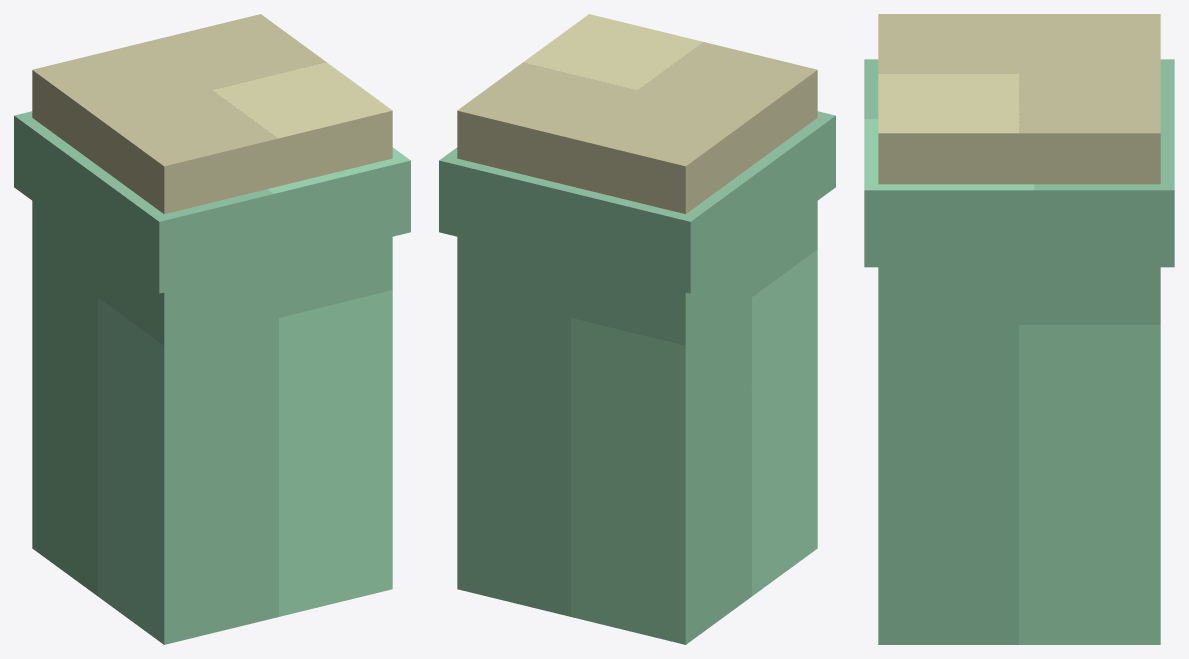
File: IAShopJar.gltf
3 renders of one model, left to right at view 1: azimuth 30°, elevation 25°; view 2: azimuth 150°, elevation 25°; view 3: azimuth 270°, elevation 25°, orthographic. The views are drawn at different scales.
Visible parts, largest first — view 1: 48c4b99a-9bad-b5d1-30bb-d50b972173fa, 4555647e-de2f-037a-ed20-42589653ef53, 9f0b062f-8b22-5e3b-2b2b-699a79e69215; view 2: 48c4b99a-9bad-b5d1-30bb-d50b972173fa, 4555647e-de2f-037a-ed20-42589653ef53, 9f0b062f-8b22-5e3b-2b2b-699a79e69215; view 3: 48c4b99a-9bad-b5d1-30bb-d50b972173fa, 4555647e-de2f-037a-ed20-42589653ef53, 9f0b062f-8b22-5e3b-2b2b-699a79e69215.
Boxes of the visible parts, x1,y1,x2,y2 form: 48c4b99a-9bad-b5d1-30bb-d50b972173fa: [32, 201, 392, 644]; 4555647e-de2f-037a-ed20-42589653ef53: [32, 14, 392, 214]; 9f0b062f-8b22-5e3b-2b2b-699a79e69215: [14, 111, 410, 293]; 48c4b99a-9bad-b5d1-30bb-d50b972173fa: [457, 201, 817, 644]; 4555647e-de2f-037a-ed20-42589653ef53: [457, 14, 817, 214]; 9f0b062f-8b22-5e3b-2b2b-699a79e69215: [439, 111, 835, 293]; 48c4b99a-9bad-b5d1-30bb-d50b972173fa: [878, 267, 1160, 644]; 4555647e-de2f-037a-ed20-42589653ef53: [878, 14, 1160, 184]; 9f0b062f-8b22-5e3b-2b2b-699a79e69215: [864, 59, 1174, 267].
Bounding box in the file's own units: 2.2 × 4 × 2.2.
Materials: 2 (2 with a texture image).
